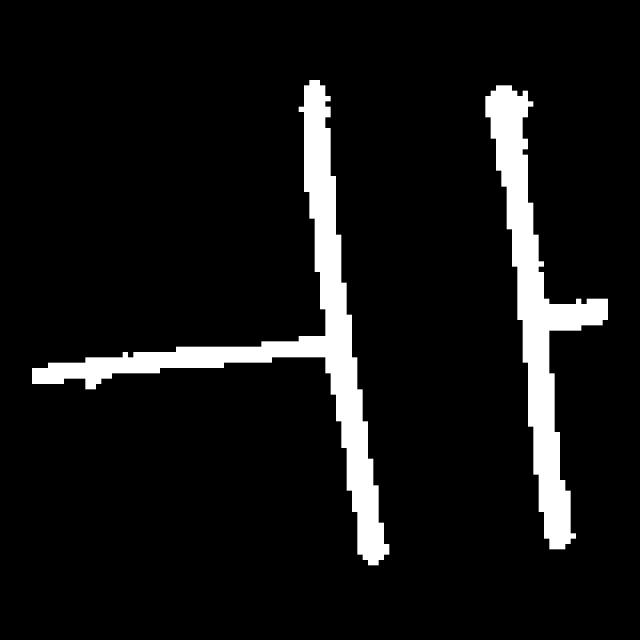capacitor: (291, 65, 579, 567)
